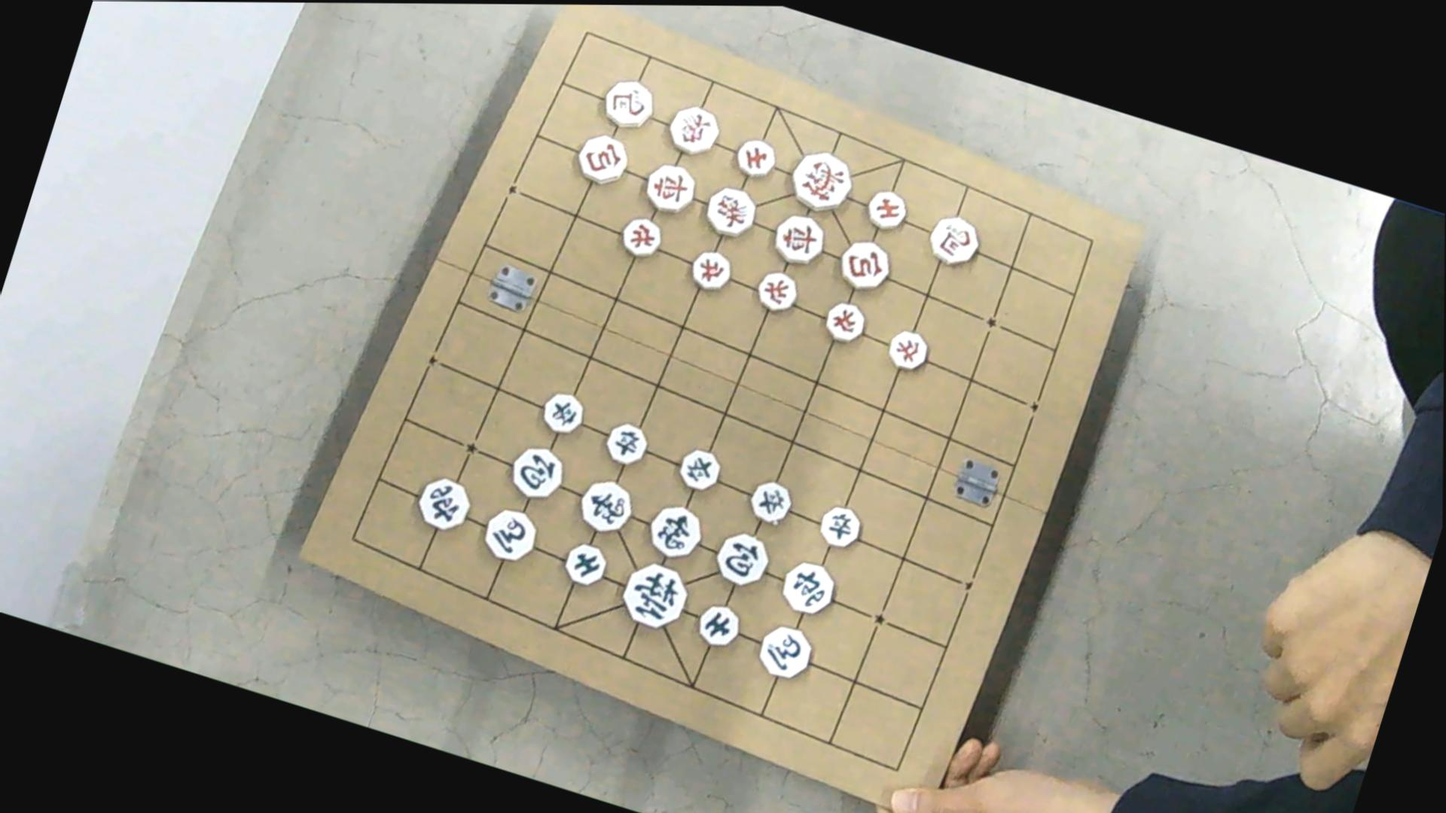cha_green: (777, 557, 840, 618), (413, 473, 474, 534)
cha_red: (769, 209, 828, 269), (640, 158, 698, 217)
jol_green: (538, 388, 587, 437), (746, 477, 795, 526), (816, 502, 864, 551), (675, 445, 723, 493), (602, 419, 649, 467)
jol_red: (616, 212, 665, 261), (753, 267, 801, 314), (687, 246, 734, 294), (822, 298, 868, 346), (886, 327, 930, 373)
ma_green: (755, 620, 816, 682), (479, 504, 540, 565)
ma_red: (598, 74, 657, 132), (924, 212, 983, 269)
po_green: (505, 441, 567, 503), (711, 528, 773, 590)
po_red: (835, 236, 894, 294), (573, 129, 631, 188)
sa_green: (693, 600, 742, 650), (561, 540, 609, 588)
sa_red: (862, 185, 910, 233), (731, 134, 778, 180)
sang_green: (644, 499, 706, 563), (575, 474, 637, 537)
sang_red: (702, 182, 759, 241), (664, 101, 722, 158)
wang_green: (615, 556, 693, 634)
wang_red: (785, 145, 856, 216)
